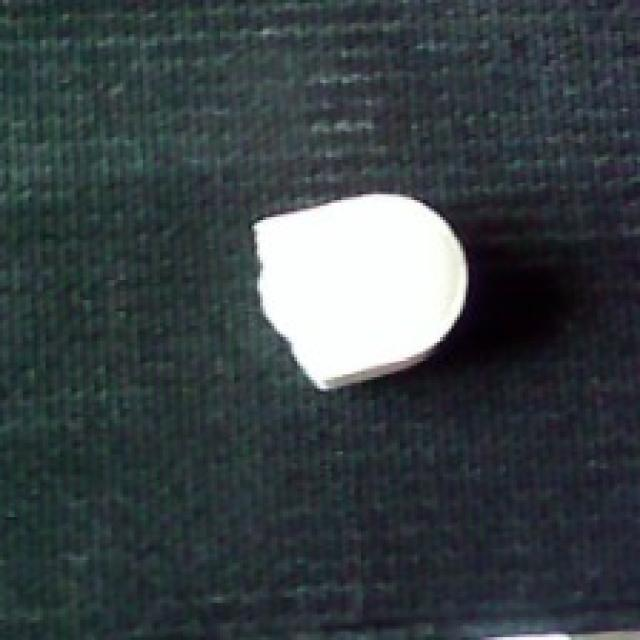defected: (249, 180, 480, 394)
